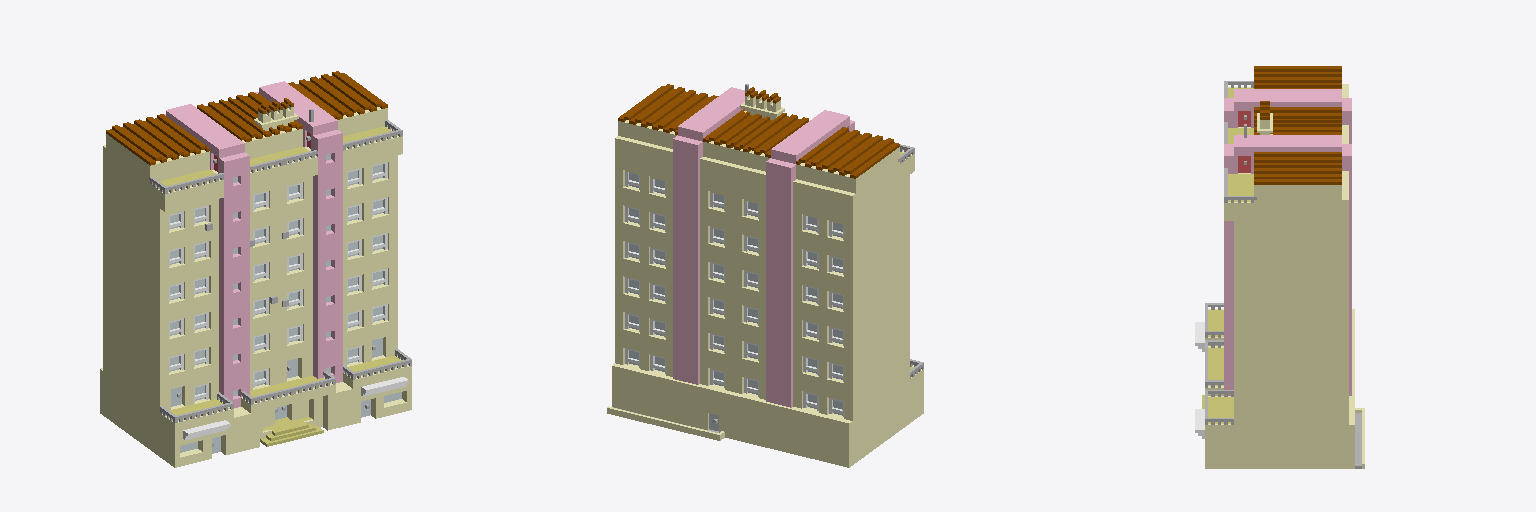
3 views of the same model, side by side, from view 1: azimuth 30°, elevation 25°; view 2: azimuth 150°, elevation 25°; view 3: azimuth 270°, elevation 25° (orthographic).
Parts seen in each view (by area): view 1: Box; view 2: Box; view 3: Box.
Part boxes in pixels (x1,y1,x2,y2): Box: (100, 71, 411, 467); Box: (607, 84, 923, 467); Box: (1195, 66, 1364, 468).
Bounding box in the file's own units: 8.4 × 10.5 × 5.2.
Materials: 1 (1 with a texture image).